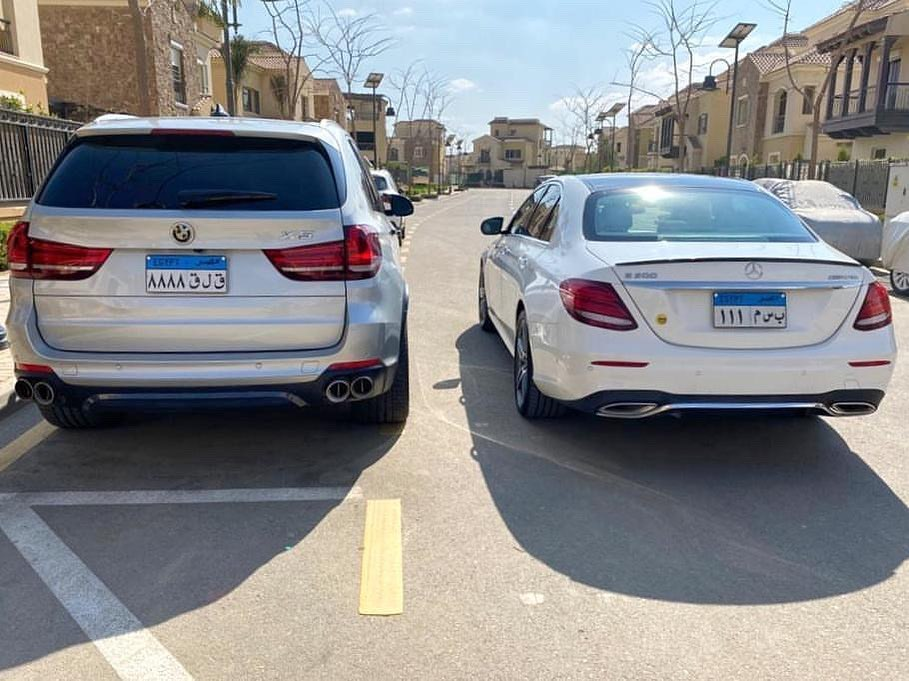carpl: (710, 293, 794, 334), (140, 257, 233, 291)
